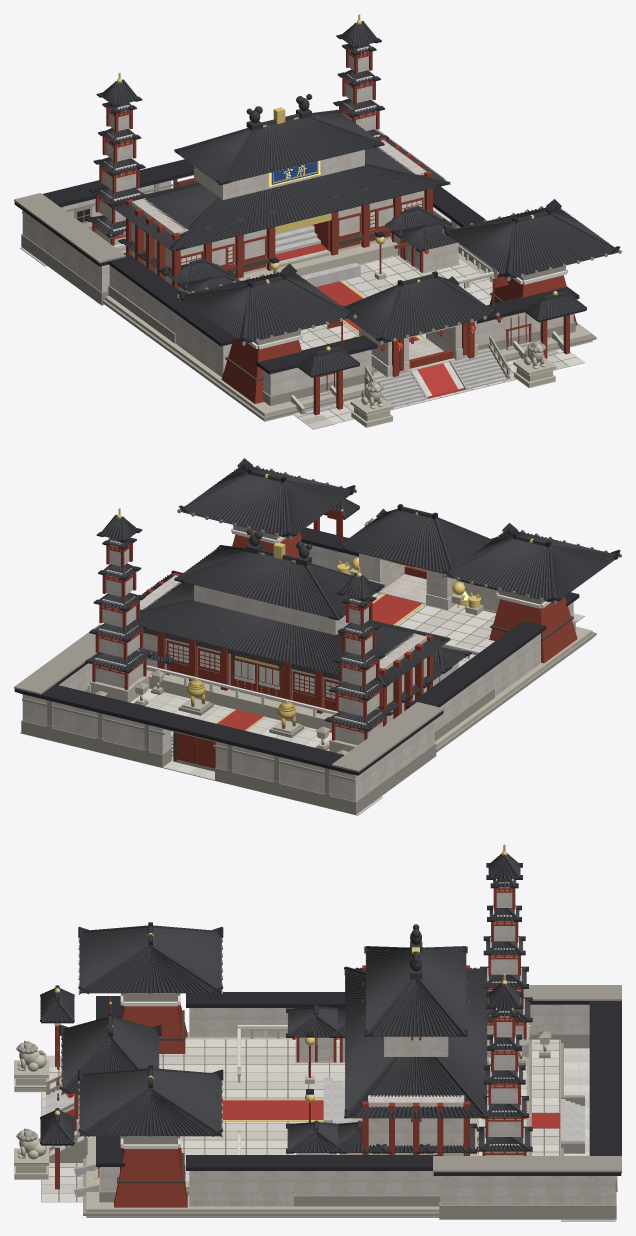
File: gongdian_v4.glb
3 renders of one model, top to bottom at view 1: azimuth 30°, elevation 25°; view 2: azimuth 150°, elevation 25°; view 3: azimuth 270°, elevation 25°, orthographic. The views are drawn at different scales.
Parts seen in each view (by area): view 1: 大殿_下檐_前坡_瓦, 大殿_下檐, 大殿_上檐_前坡_瓦, 庭院铺地, 角楼前右_顶_前坡_瓦, 角楼前左_顶_前坡_瓦, 门楼_檐_前坡_瓦, 大殿_墙, 围墙左, 台基1, 大殿_上檐, 墙檐左 (+38 smaller); view 2: 大殿_下檐_后坡_瓦, 大殿_上檐_后坡_瓦, 大殿_下檐, 角楼前左_顶_后坡_瓦, 角楼前右_顶_后坡_瓦, 门楼_檐_后坡_瓦, 后院_后墙-1, 后院_后墙1, 墙檐左, 庭院铺地, 角楼前左_台, 围墙左 (+50 smaller); view 3: 庭院铺地, 围墙右, 后院_围墙1, 台基1, 墙檐右, 角楼前右_台, 大殿_下檐, 大殿_下檐_前坡_瓦, 大殿_下檐_后坡_瓦, 大殿_墙, 后院_檐脊1, 大殿_下檐_右坡_瓦 (+47 smaller).
Part boxes in pixels (box(x1,y1,x2,y2)): 大殿_下檐_前坡_瓦: box(175, 165, 448, 251); 大殿_下檐: box(112, 139, 447, 250); 大殿_上檐_前坡_瓦: box(223, 117, 378, 181); 庭院铺地: box(299, 255, 492, 350); 角楼前右_顶_前坡_瓦: box(510, 215, 618, 278); 角楼前左_顶_前坡_瓦: box(245, 279, 353, 342); 门楼_檐_前坡_瓦: box(383, 278, 495, 342); 大殿_墙: box(131, 140, 426, 284); 围墙左: box(109, 265, 231, 377); 台基1: box(105, 296, 592, 421); 大殿_上檐: box(176, 112, 375, 183); 墙檐左: box(108, 252, 233, 346); 大殿_下檐_后坡_瓦: box(133, 601, 380, 681); 大殿_上檐_后坡_瓦: box(179, 553, 335, 616); 大殿_下檐: box(133, 573, 448, 684); 角楼前左_顶_后坡_瓦: box(445, 539, 553, 602); 角楼前右_顶_后坡_瓦: box(181, 474, 288, 537); 门楼_檐_后坡_瓦: box(339, 511, 450, 572); 后院_后墙-1: box(215, 741, 364, 801); 后院_后墙1: box(22, 694, 171, 754); 墙檐左: box(407, 620, 546, 708); 庭院铺地: box(372, 593, 495, 667); 角楼前左_台: box(489, 597, 577, 663); 围墙左: box(435, 633, 540, 730); 庭院铺地: box(159, 1039, 345, 1181); 围墙右: box(189, 1171, 440, 1206); 后院_围墙1: box(440, 1176, 615, 1205); 台基1: box(86, 1032, 560, 1217); 墙檐右: box(186, 1155, 443, 1170); 角楼前右_台: box(114, 1147, 187, 1207); 大殿_下檐: box(345, 968, 486, 1118); 大殿_下檐_前坡_瓦: box(345, 969, 393, 1111); 大殿_下檐_后坡_瓦: box(438, 969, 487, 1111); 大殿_墙: box(368, 1095, 464, 1155); 后院_檐脊1: box(433, 1156, 621, 1172); 大殿_下檐_右坡_瓦: box(356, 1057, 476, 1118).
Size of the model in its own units: 30.18 by 15.16 by 37.8.
25 materials, 3 textured.
